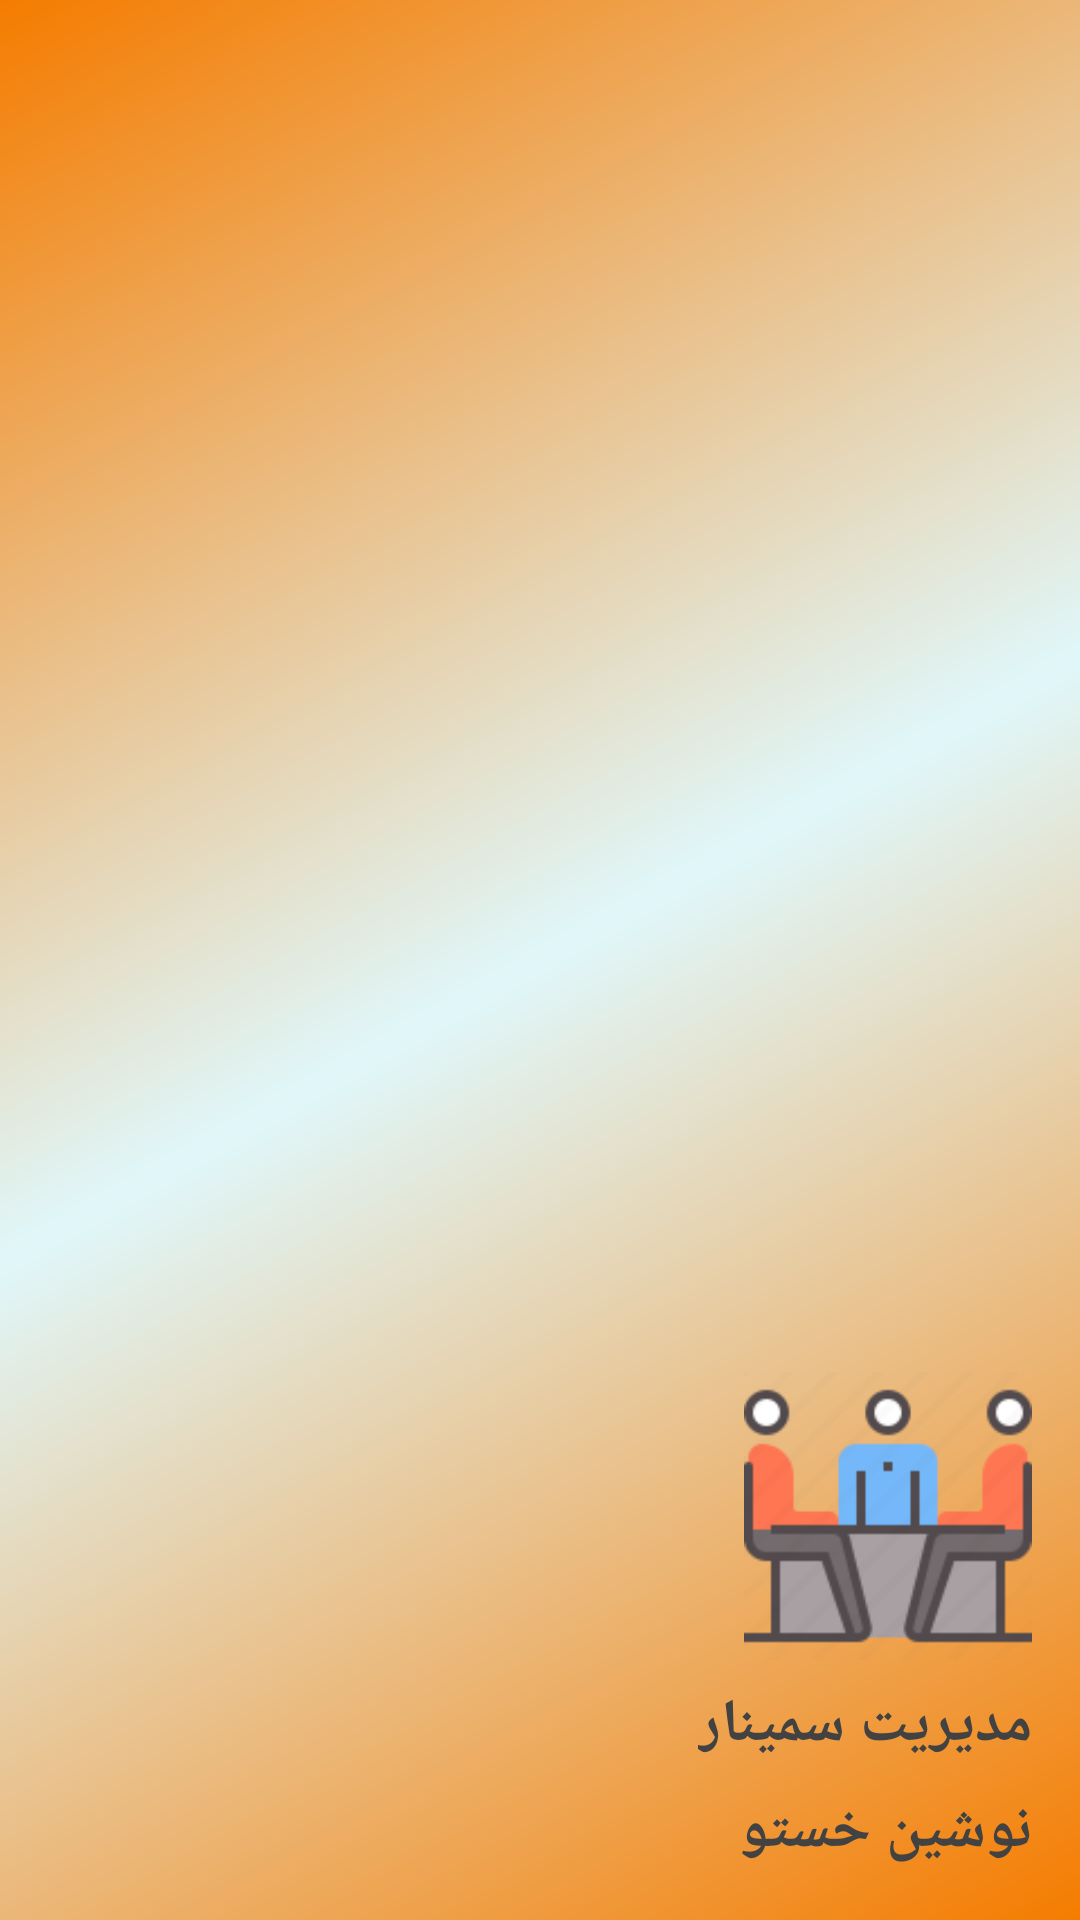

Icons on this 1080w x 1920h Android screen, each with the point to tap as (x=x, y=y):
meet: (x=888, y=1516)
